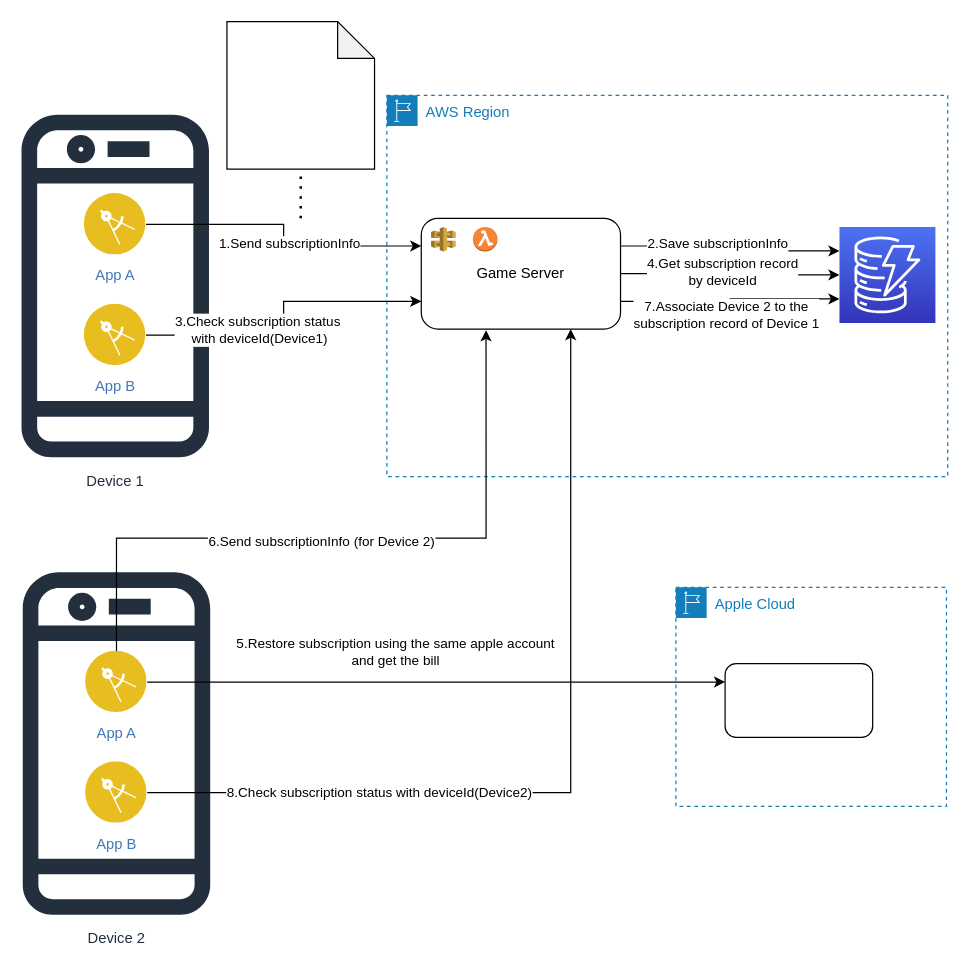
Some shapes in this 969 by 969 pixel diagram are drawn without their labels. Here are the shapes that lost their labels. From the top down, the centre of each, then its label:
At (300,94): "originalTransactionId, deviceId, bundleId, expireDate".
At (886,274): "DynamoDB".
At (798,699): "Apple Subscription Server".
